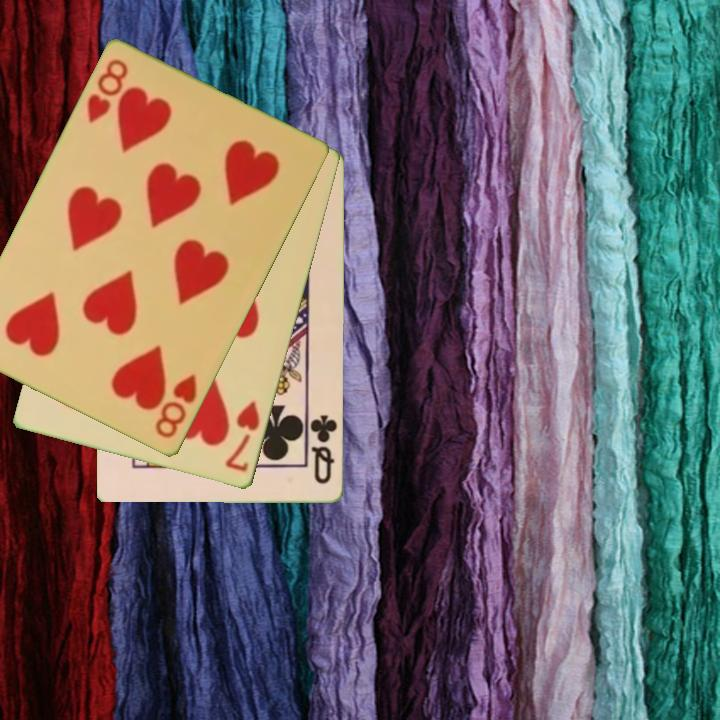7h: (222, 398, 263, 475)
8h: (152, 371, 200, 442), (83, 56, 131, 127)
Qc: (307, 412, 341, 488)
